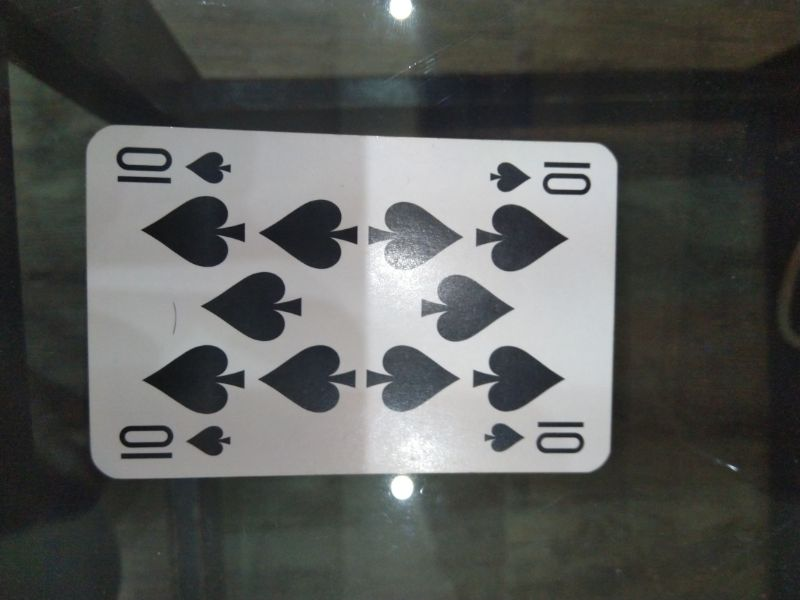Ts: (112, 139, 236, 192), (484, 153, 597, 201), (114, 421, 235, 465), (480, 417, 590, 458)
